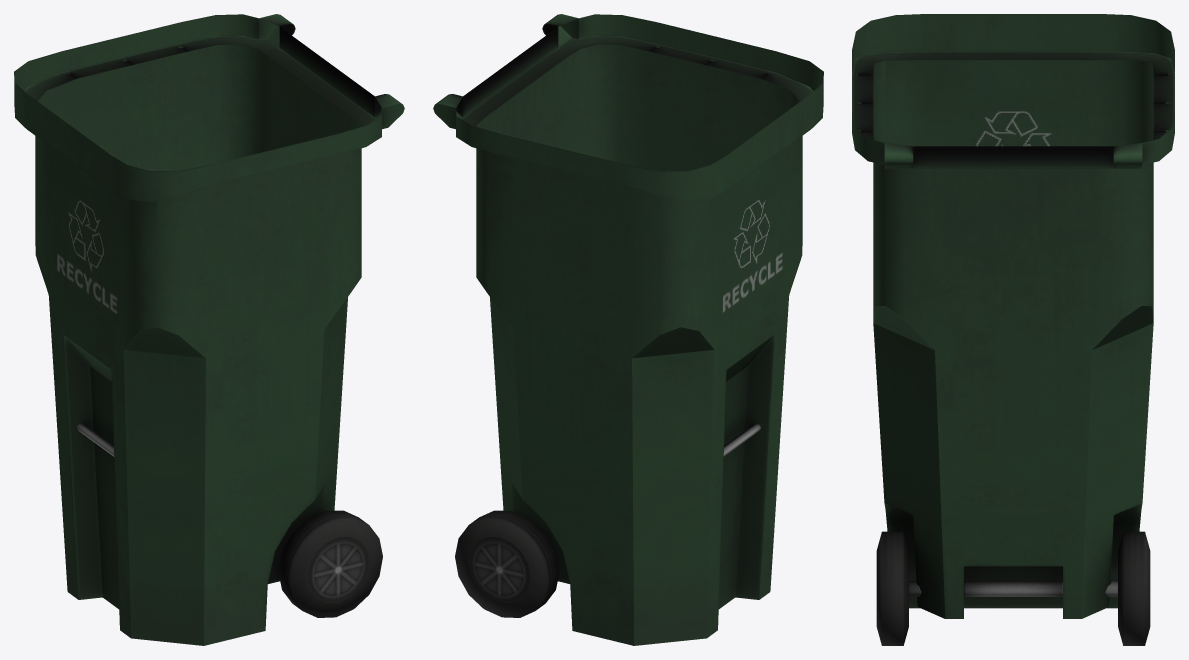
Rendered from SM_TrashCan.fbx.
3 renders of one model, left to right at view 1: azimuth 30°, elevation 25°; view 2: azimuth 150°, elevation 25°; view 3: azimuth 270°, elevation 25°, orthographic. The views are drawn at different scales.
Parts seen in each view (by area): view 1: SM_TrashCan; view 2: SM_TrashCan; view 3: SM_TrashCan.
Part boxes in pixels (left/top/right/bottom): SM_TrashCan: left=14, top=14, right=404, bottom=645; SM_TrashCan: left=433, top=14, right=823, bottom=645; SM_TrashCan: left=852, top=14, right=1174, bottom=645.
Size of the model in its own units: 60.83 by 105 by 58.96.
Materials: 1 (1 with a texture image).
